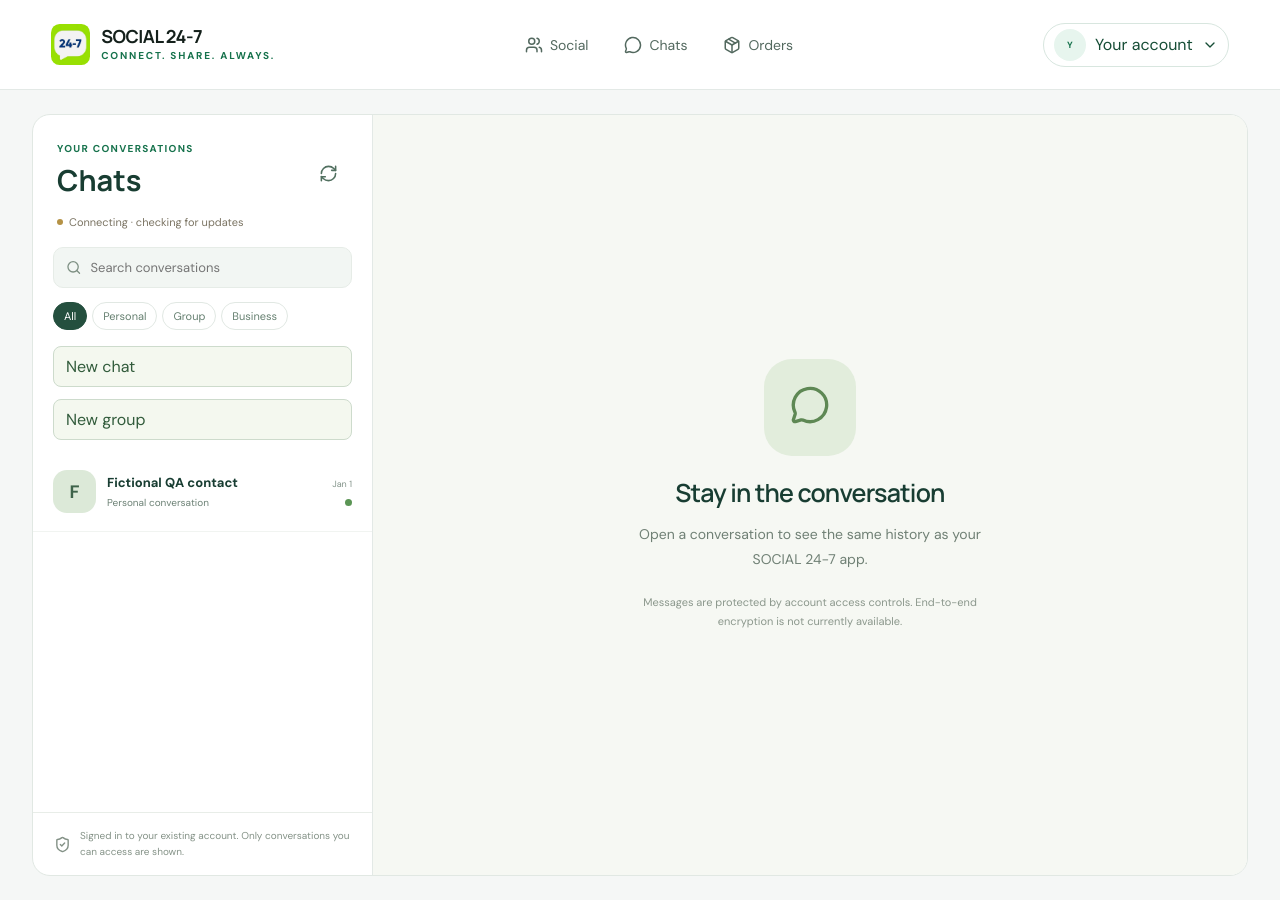
Scenario: consumer conversation interactions › filters the existing inbox without fabricating an empty conversation
expect the text "Fictional QA contact" is shown: met, box [107,474,238,491]
Type "does-not-exist" into the field named "Search your conversations" at (215, 268), box [90,259,339,276]
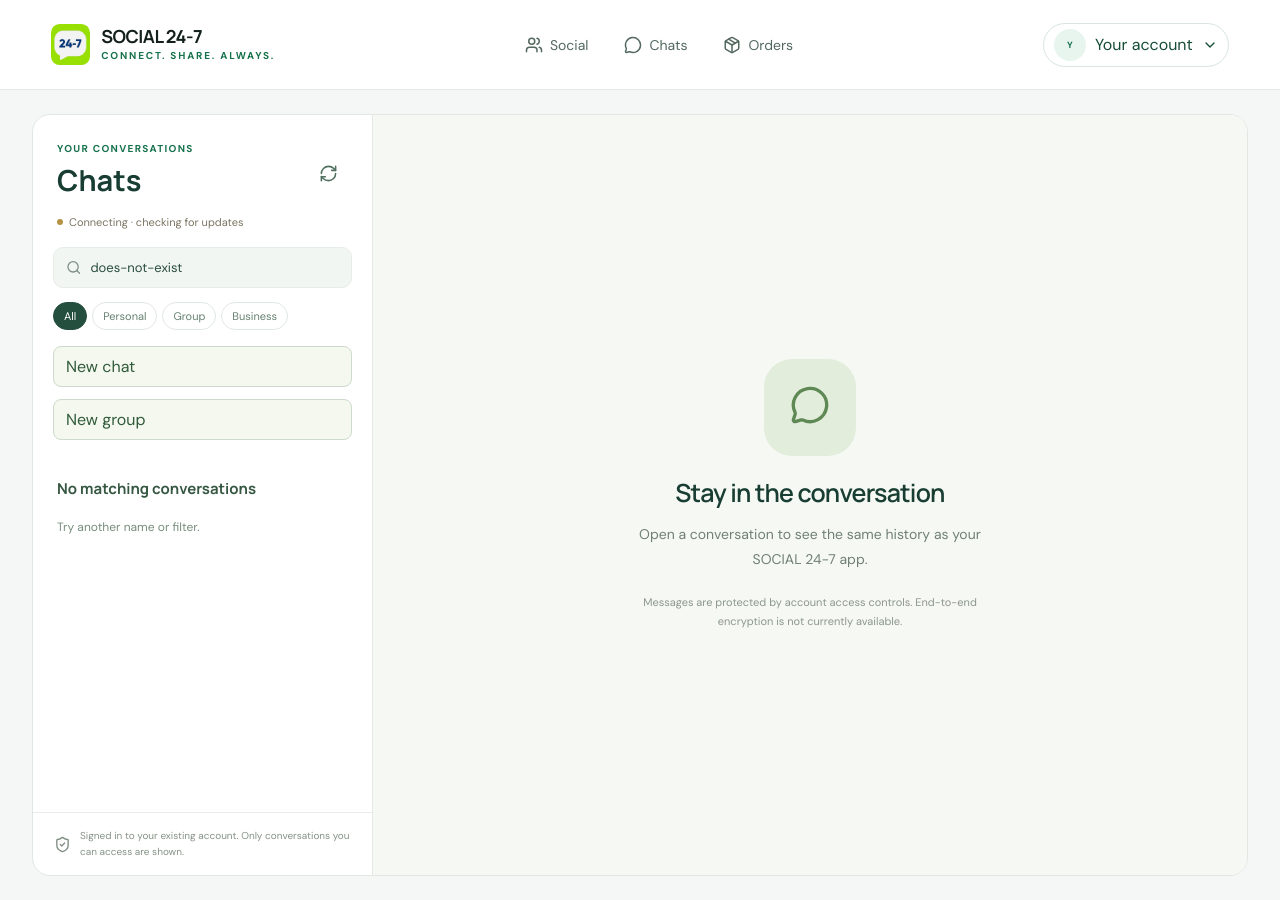
expect the heading "No matching conversations" is shown: met, box [57,478,256,499]
